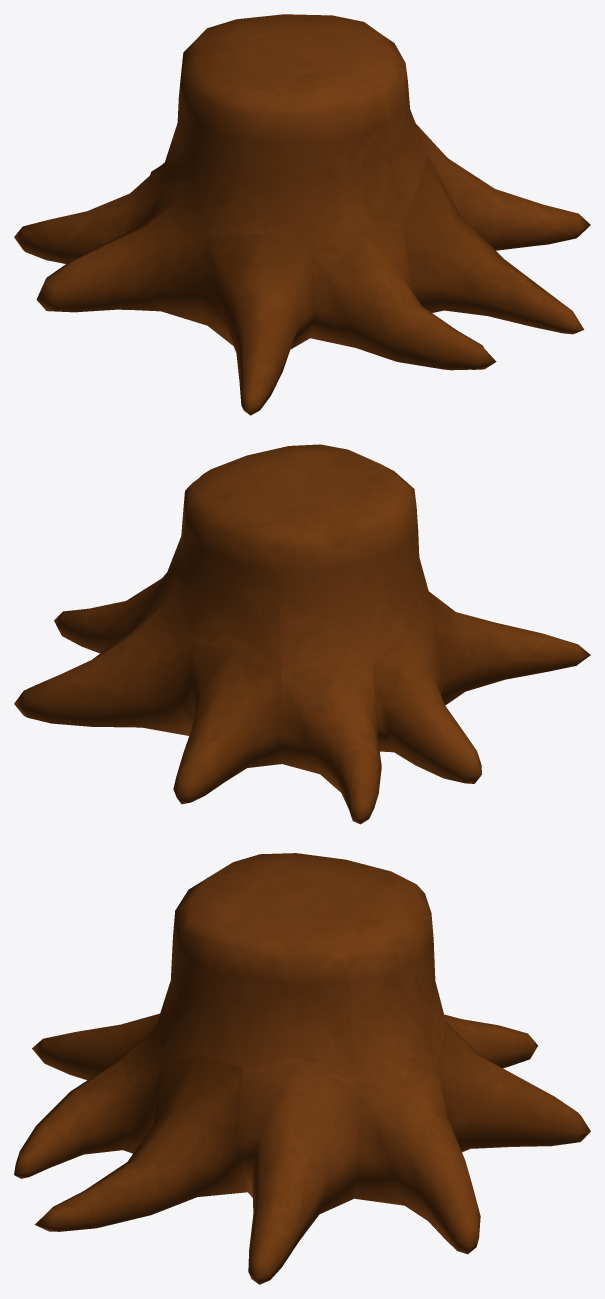
The model's file is agac_3.fbx.
3 views of the same model, one above another, from view 1: azimuth 30°, elevation 25°; view 2: azimuth 150°, elevation 25°; view 3: azimuth 270°, elevation 25° (orthographic). The views are drawn at different scales.
Visible parts, largest first — view 1: agac_3; view 2: agac_3; view 3: agac_3.
Part boxes in pixels (<box>): agac_3: <box>14,14,590,415</box>; agac_3: <box>14,444,590,824</box>; agac_3: <box>14,853,590,1284</box>.
Size of the model in its own units: 235 by 109 by 220.
1 material, 1 textured.
